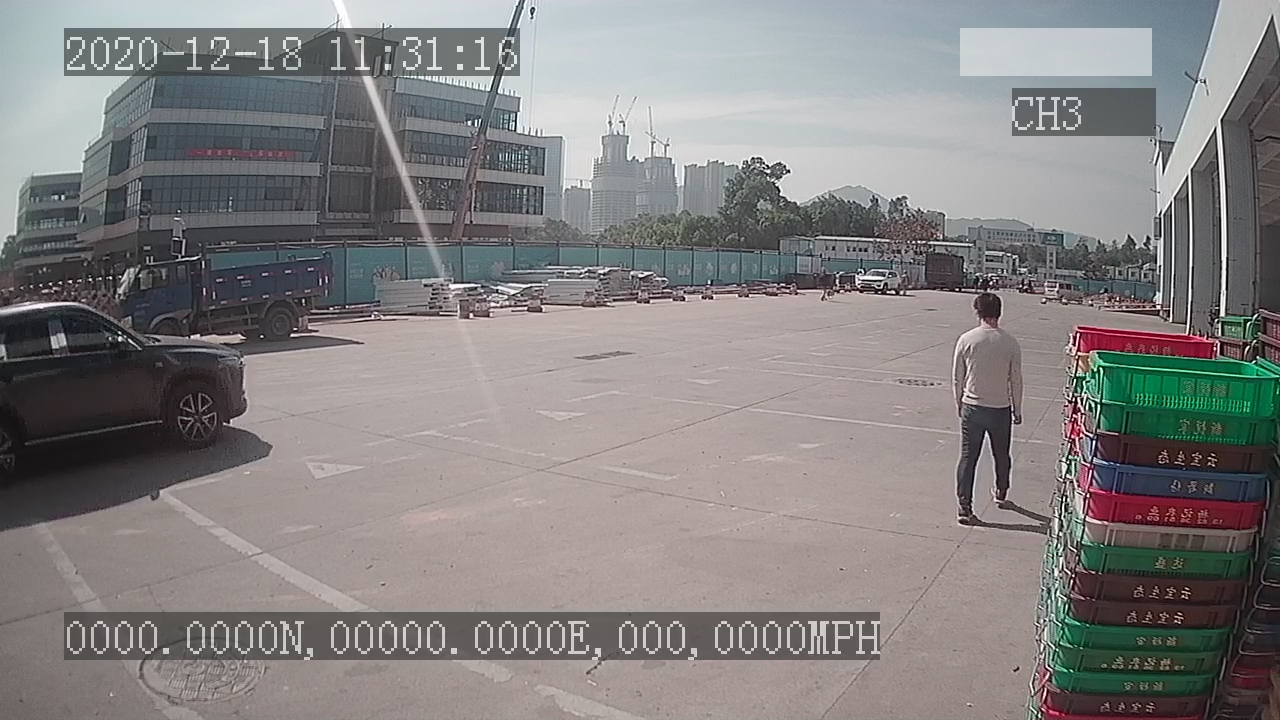person: (948, 291, 1025, 524)
